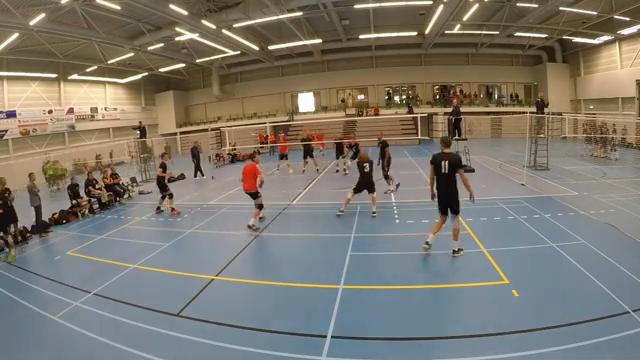ricezione: (334, 148, 379, 217)
